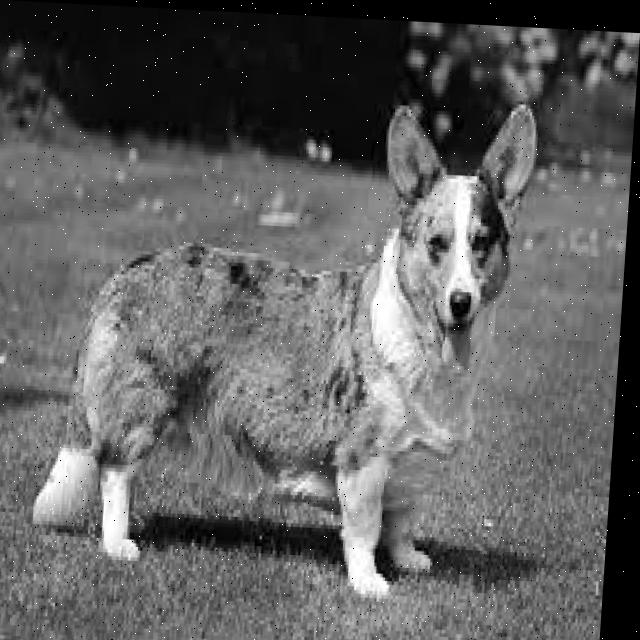CORGI: (38, 70, 554, 605)
